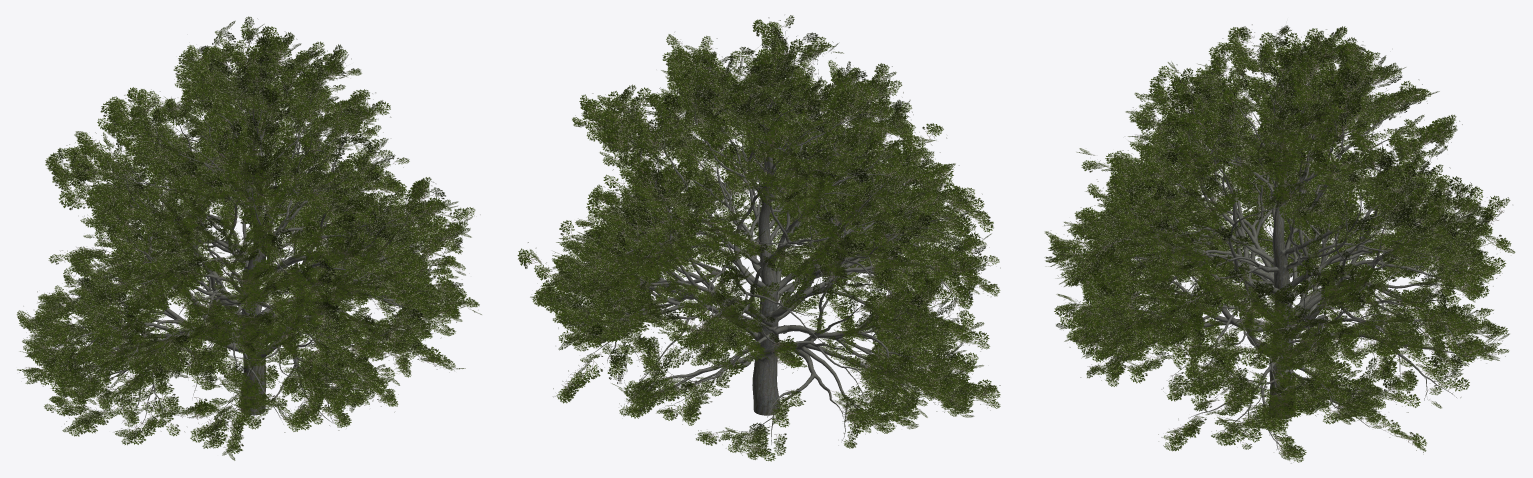
Rendered from chene-1.glb.
The picture shows the model from 3 angles, left to right: view 1: azimuth 30°, elevation 25°; view 2: azimuth 150°, elevation 25°; view 3: azimuth 270°, elevation 25°; orthographic projection. The views are drawn at different scales.
Visible parts, largest first — view 1: Oak Leaf, Oak Tree; view 2: Oak Leaf, Oak Tree; view 3: Oak Leaf, Oak Tree.
Boxes of the visible parts, x1=… form: Oak Leaf: x1=17, y1=16, x2=481, y2=460; Oak Tree: x1=30, y1=42, x2=451, y2=431; Oak Leaf: x1=517, y1=15, x2=1000, y2=461; Oak Tree: x1=553, y1=31, x2=990, y2=444; Oak Leaf: x1=1044, y1=24, x2=1515, y2=463; Oak Tree: x1=1069, y1=43, x2=1496, y2=457.
Size of the model in its own units: 37.98 by 32.5 by 36.46.
Materials: 2 (2 with a texture image).
